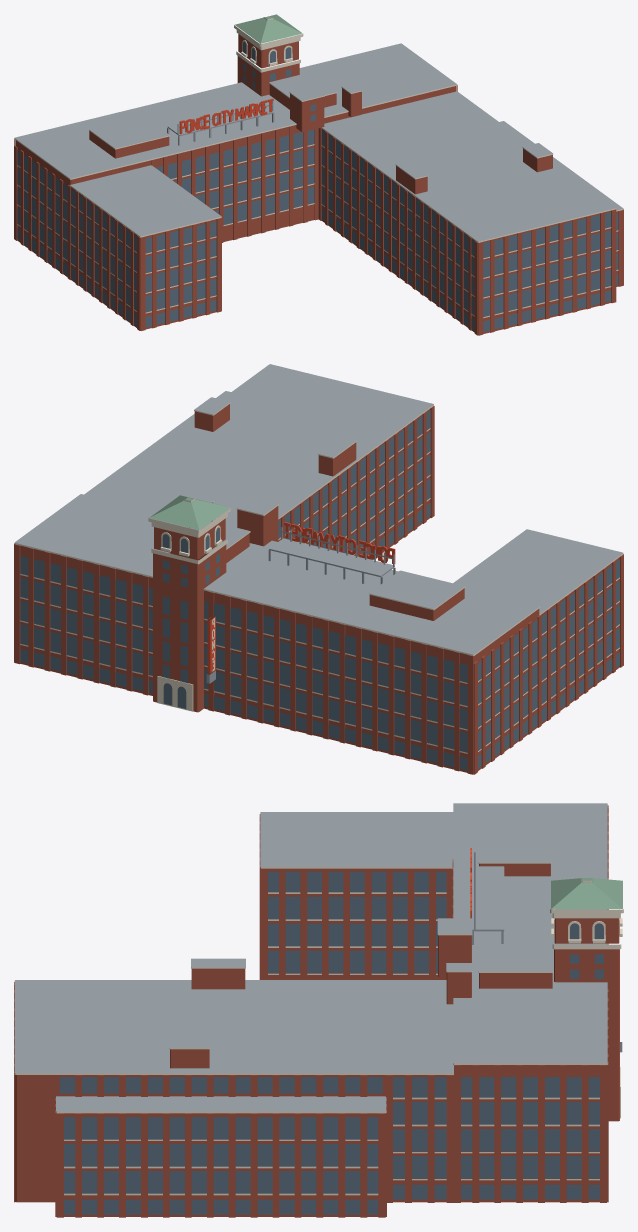
The model's file is atl-ponce-city-market.glb.
3 views of the same model, one above another, from view 1: azimuth 30°, elevation 25°; view 2: azimuth 150°, elevation 25°; view 3: azimuth 270°, elevation 25° (orthographic). The views are drawn at different scales.
Visible parts, largest first — view 1: Ponce City Market; view 2: Ponce City Market; view 3: Ponce City Market.
Boxes of the visible parts, x1,y1,x2,y2 form: Ponce City Market: [14, 14, 623, 335]; Ponce City Market: [14, 364, 623, 774]; Ponce City Market: [14, 803, 623, 1217].
Size of the model in its own units: 182 by 70.5 by 170.
